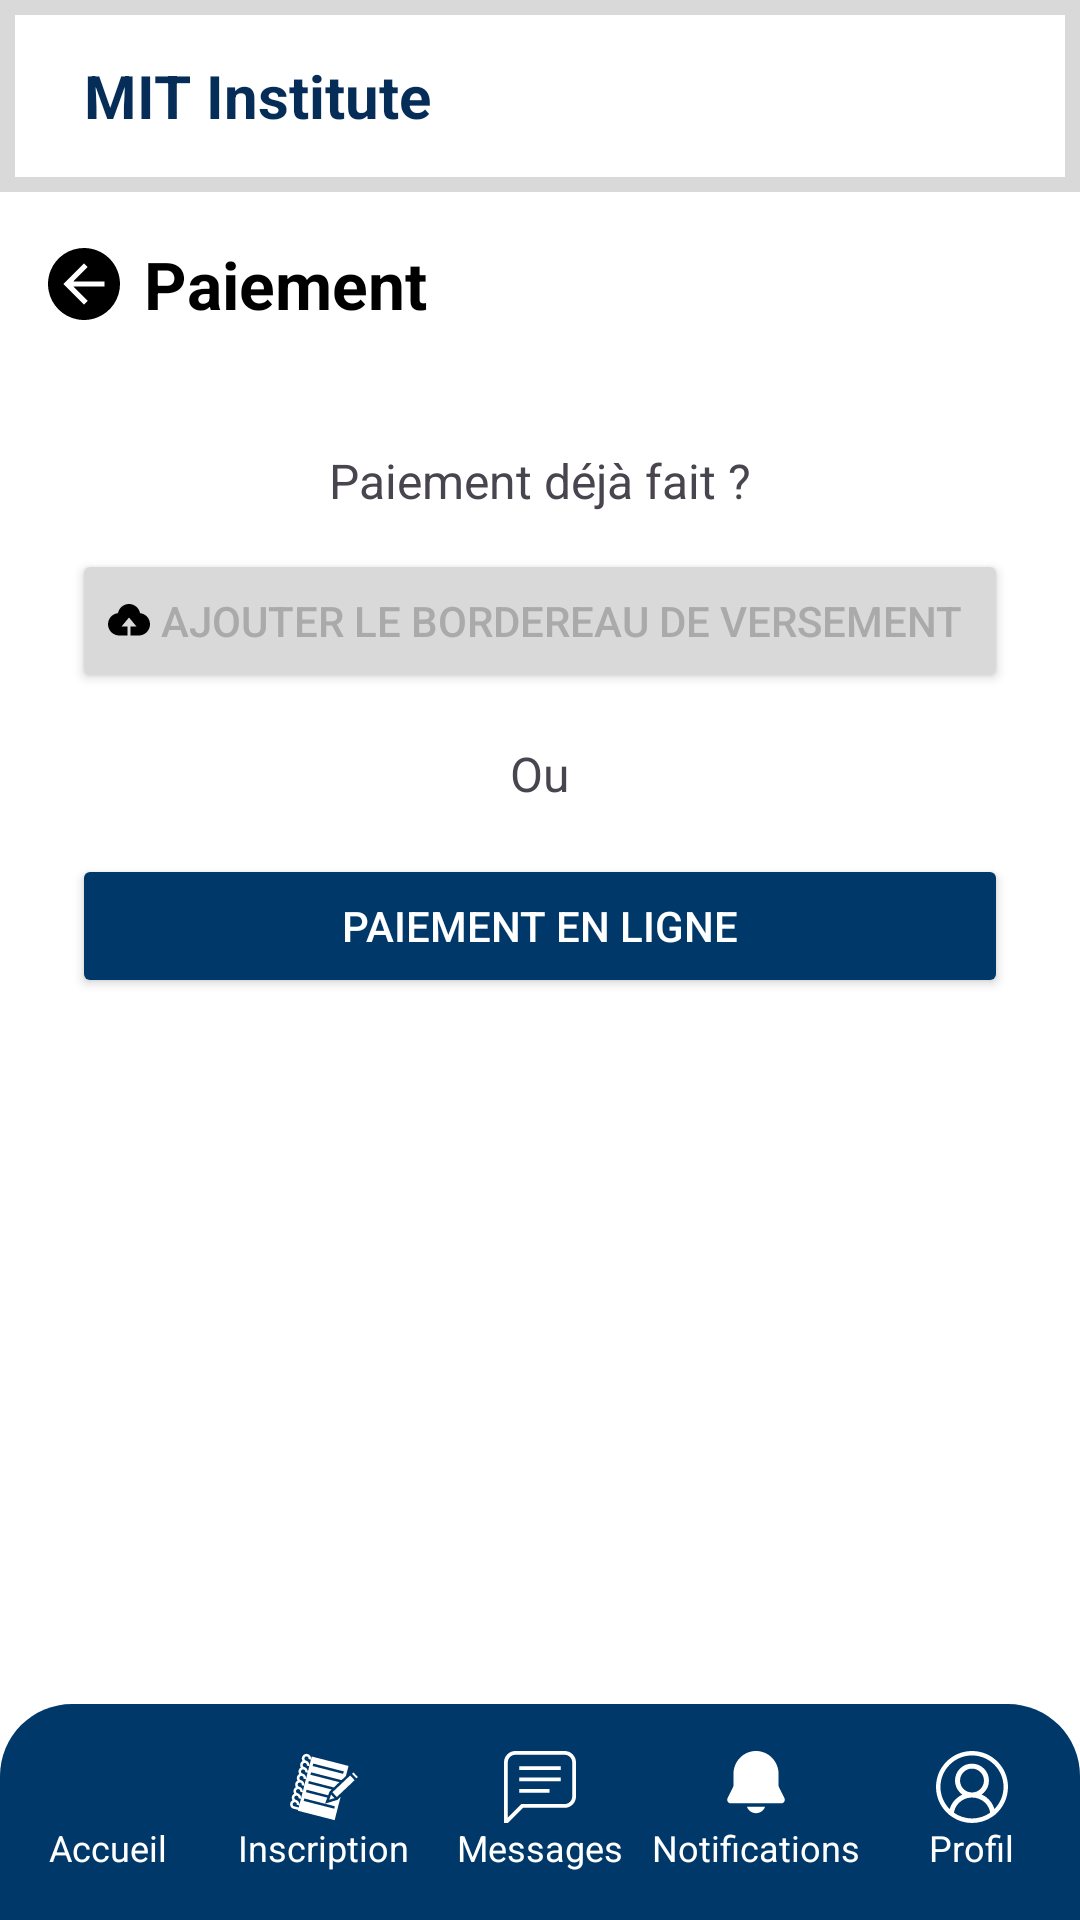

Screen size 1080px×1920px. Icon name, then its box in pixels as bbox=[x1, y1, x2, y2]:
Notes: bbox=[290, 1753, 358, 1820]
Retour: bbox=[48, 248, 120, 320]
